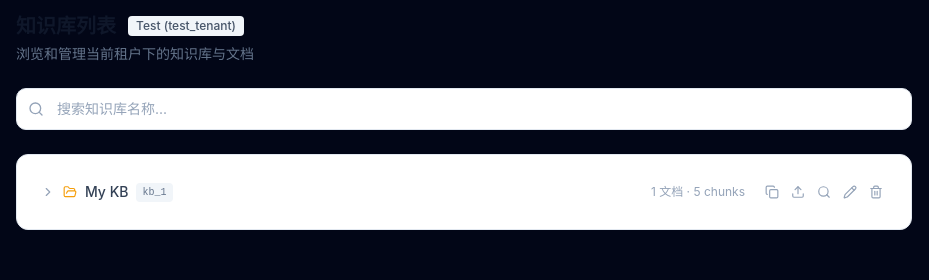
Test: KnowledgeFileTreePage › 点击 KB 应展开/折叠其下的文档列表
The width and height of the screenshot is (929, 280).
Expected: the text "My KB" is shown, [85, 182, 128, 202]
Expected: the text "secret.txt" is not shown
点击 KB 展开文档
Click the text "My KB": (107, 192) [41, 181, 887, 203]
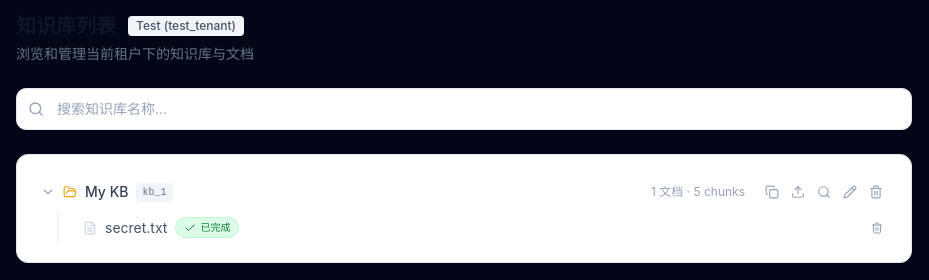
Now the text "secret.txt" is shown, box [105, 218, 168, 238]
Click the text "My KB": (107, 192) [41, 181, 887, 203]
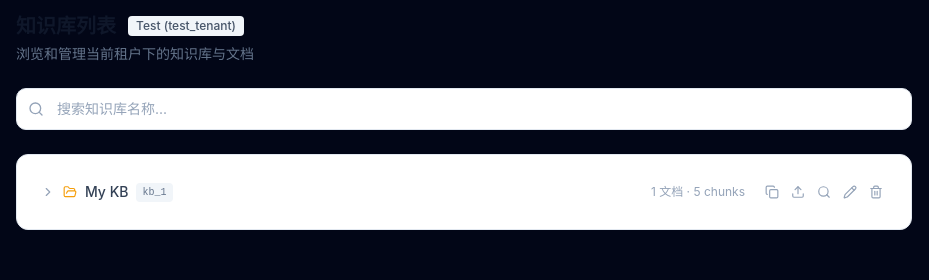
Now the text "secret.txt" is gone
